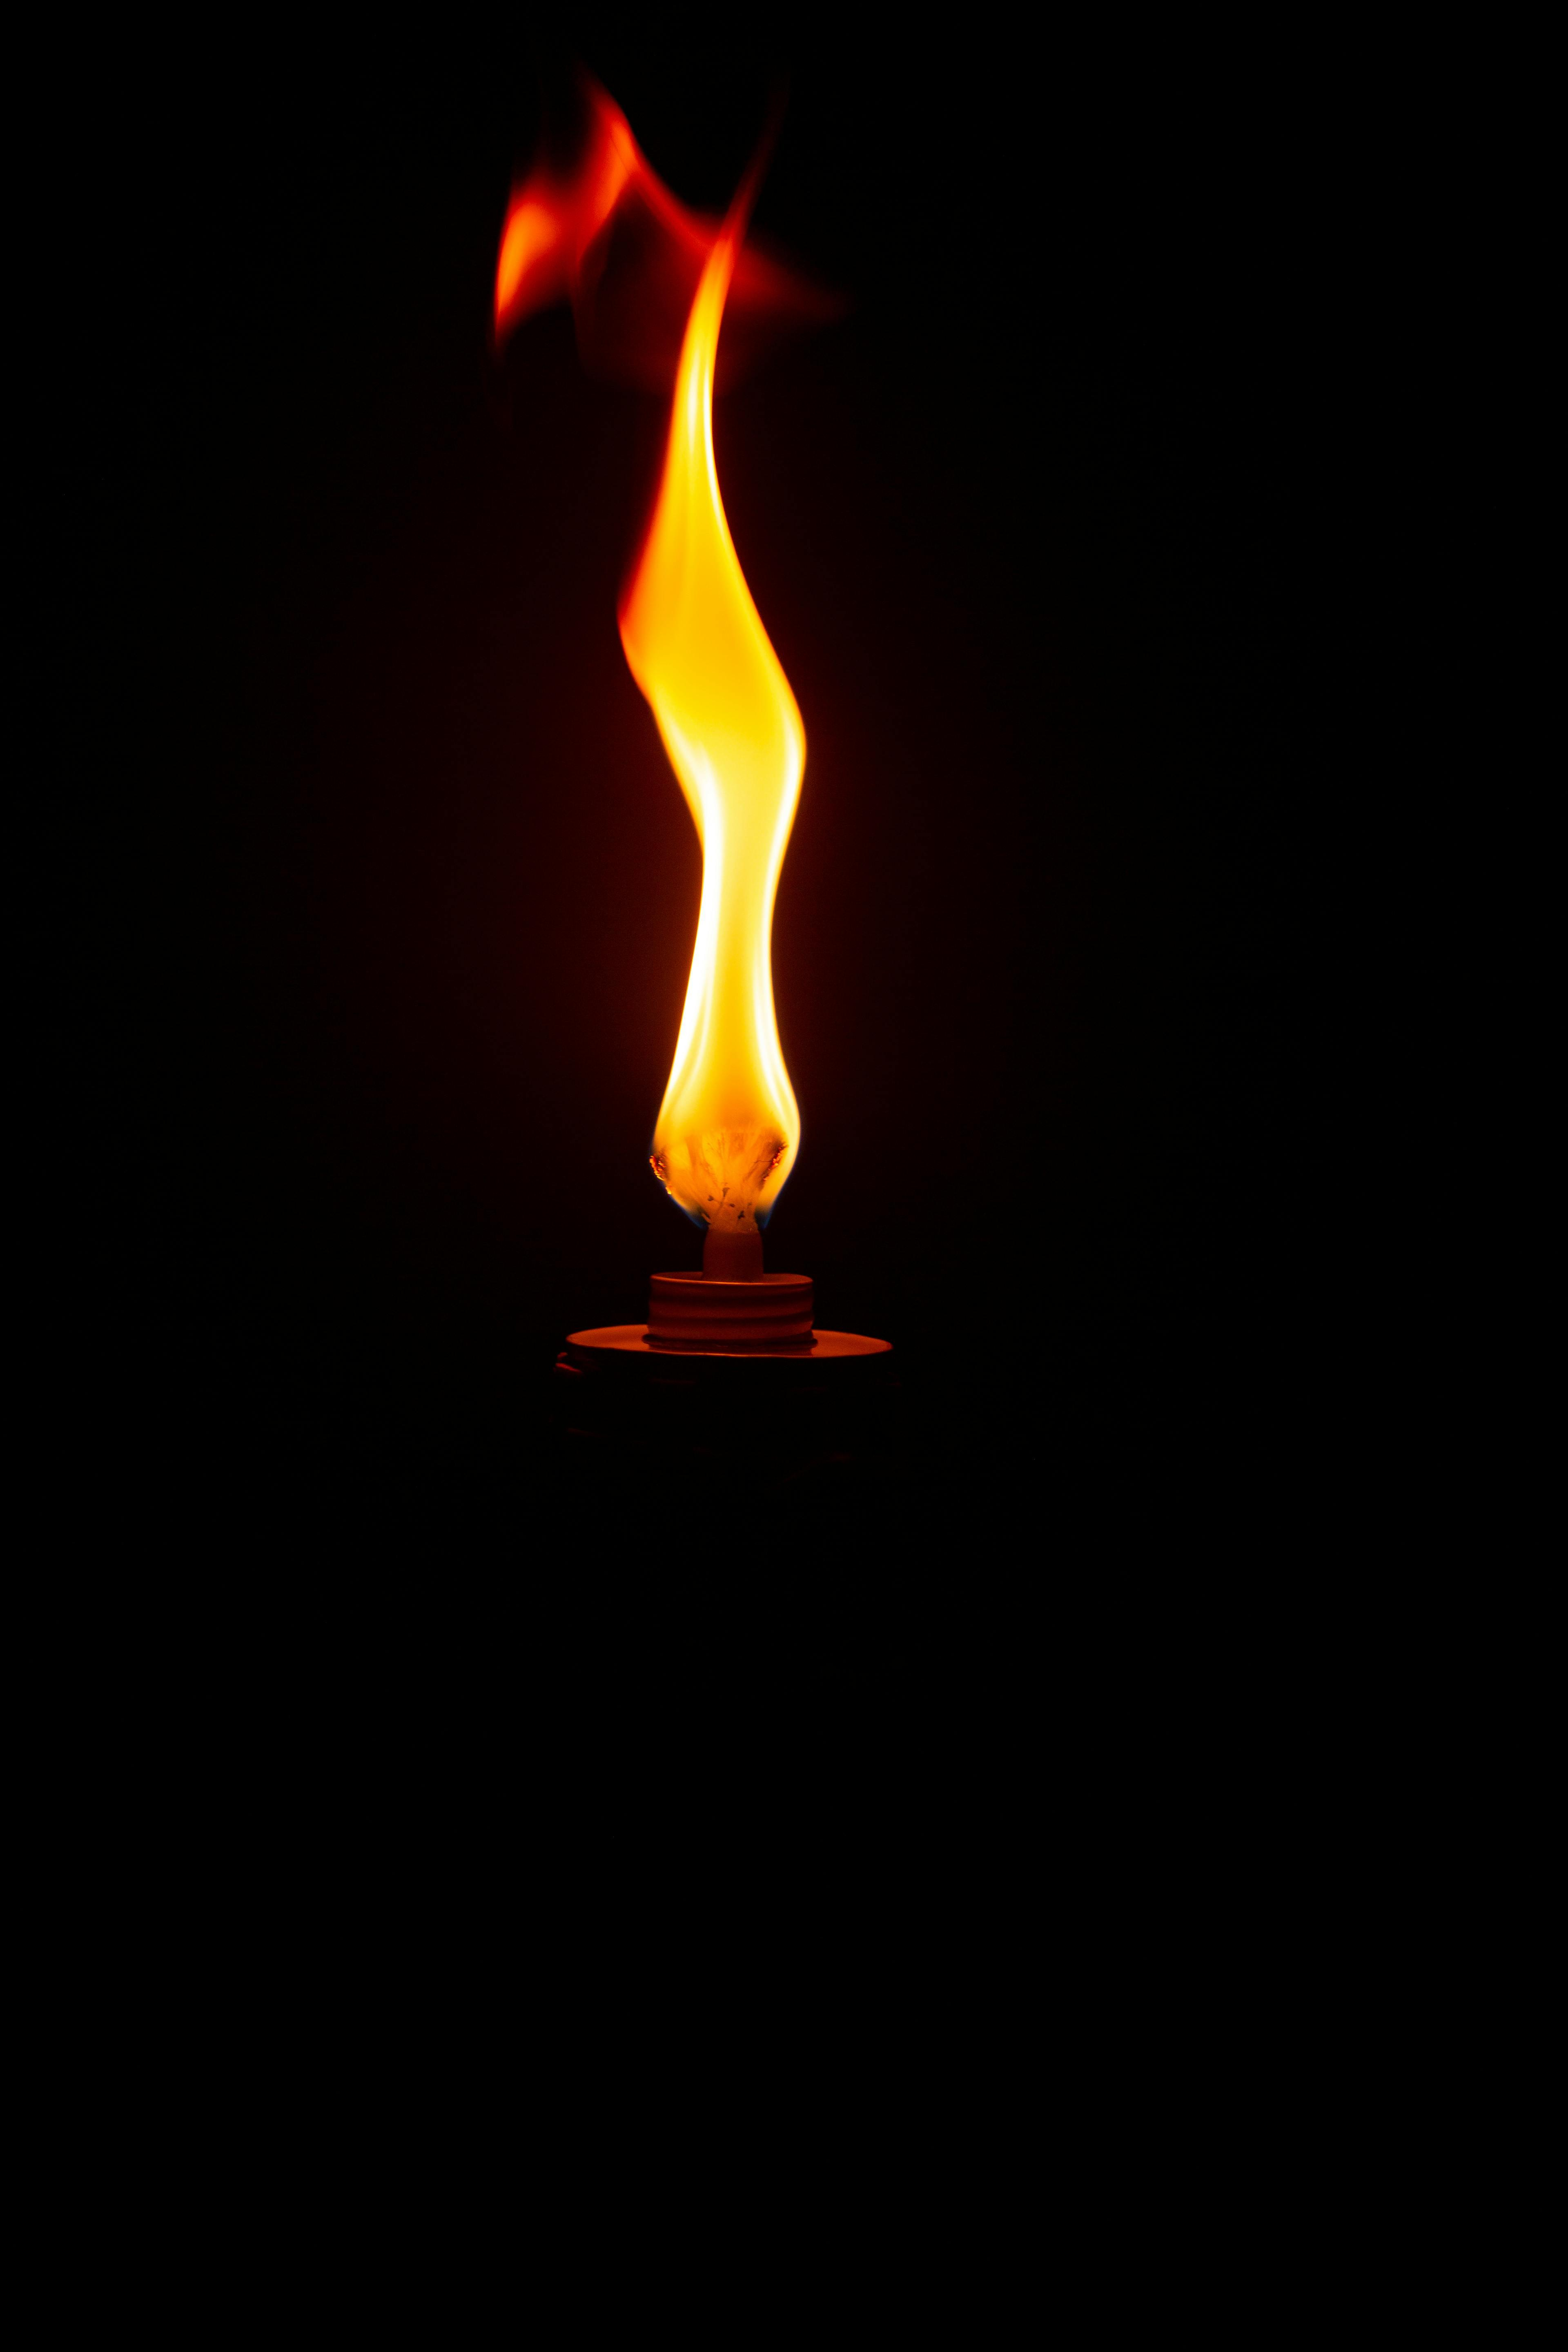Fire: (474, 79, 884, 1223)
